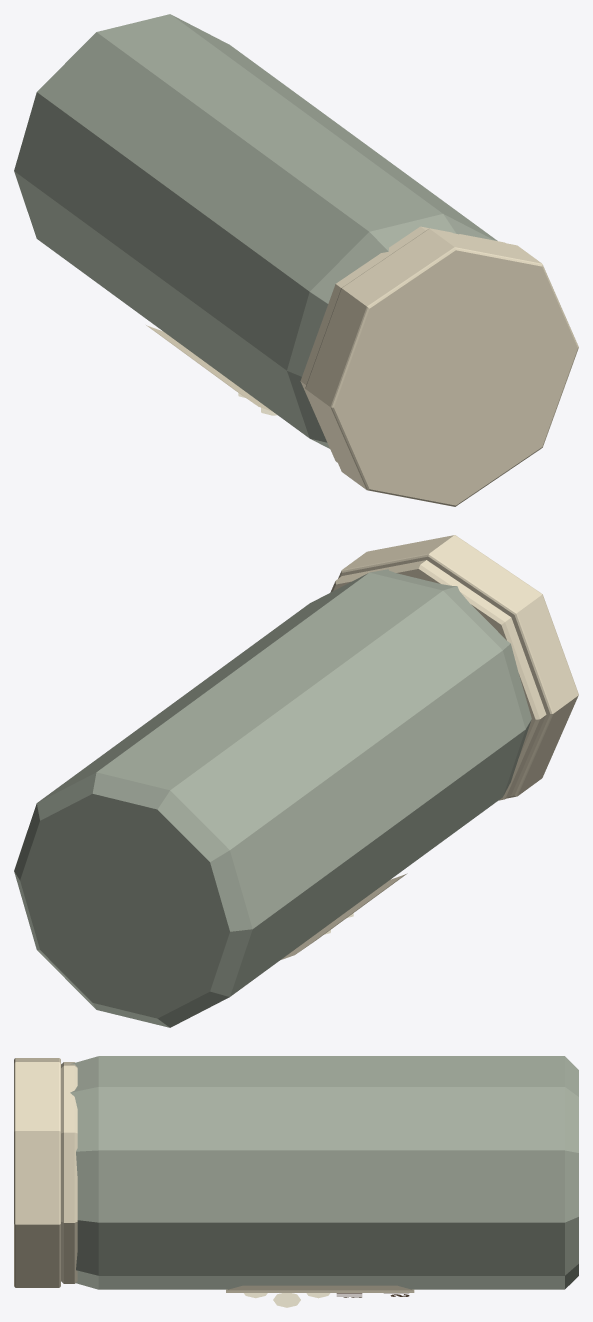
File: vanilla_pods.glb
3 renders of one model, top to bottom at view 1: azimuth 30°, elevation 25°; view 2: azimuth 150°, elevation 25°; view 3: azimuth 270°, elevation 25°, orthographic. The views are drawn at different scales.
Parts seen in each view (by area): view 1: vanilla_pods; view 2: vanilla_pods; view 3: vanilla_pods.
Part boxes in pixels (x1,y1,x2,y2): vanilla_pods: [14, 14, 578, 506]; vanilla_pods: [14, 535, 578, 1027]; vanilla_pods: [14, 1056, 578, 1307].
Bounding box in the file's own units: 0.052 × 0.053 × 0.12.
